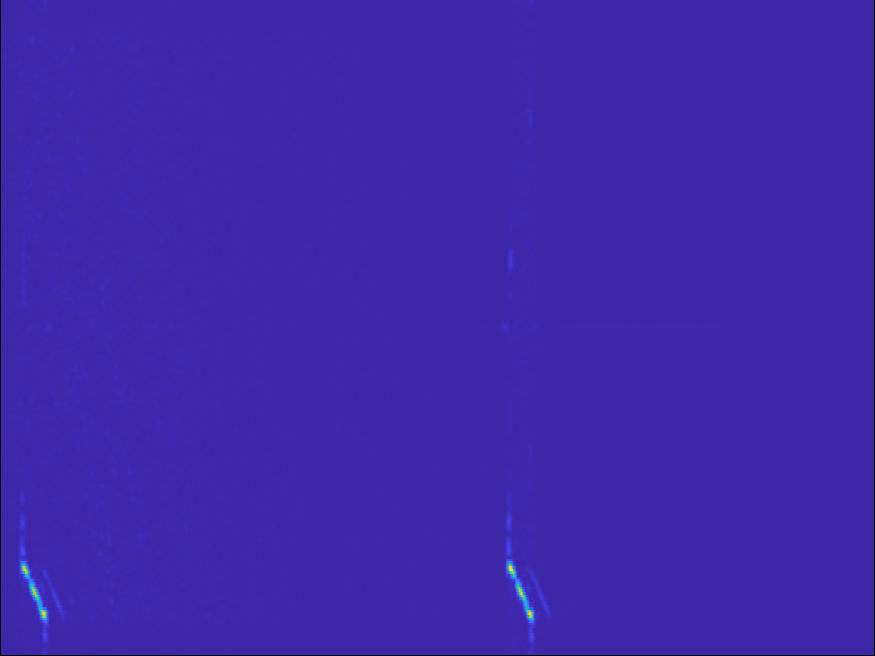Interference: (660, 567, 794, 656), (742, 1, 866, 77), (626, 133, 725, 177), (771, 298, 853, 350)
